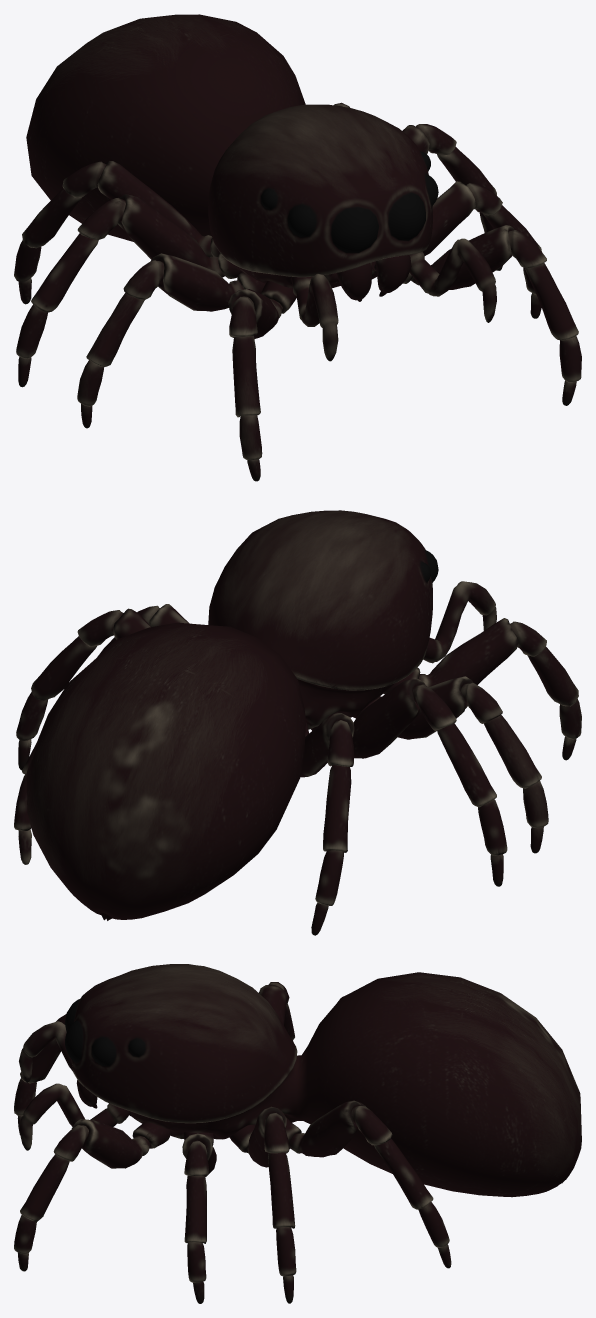
Rendered from arana.obj.
The picture shows the model from 3 angles, top to bottom: view 1: azimuth 30°, elevation 25°; view 2: azimuth 150°, elevation 25°; view 3: azimuth 270°, elevation 25°; orthographic projection. The views are drawn at different scales.
Parts seen in each view (by area): view 1: JumpSpider; view 2: JumpSpider; view 3: JumpSpider.
Part boxes in pixels (x1,y1,x2,y2): JumpSpider: (14, 14, 581, 481); JumpSpider: (14, 510, 581, 935); JumpSpider: (14, 964, 581, 1303).
Bounding box in the file's own units: 1.71 × 0.8796 × 1.96.
Materials: 1 (1 with a texture image).
